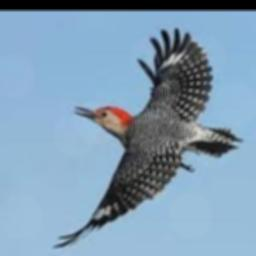Woodpecker: (50, 27, 243, 248)
